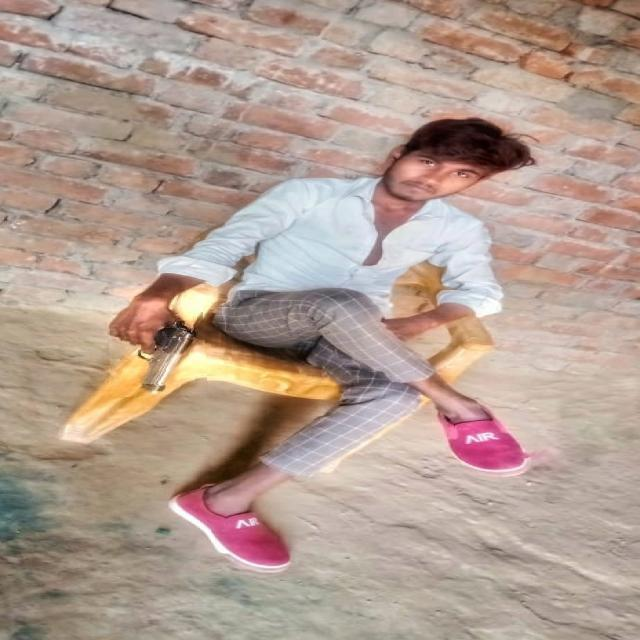Handgun: (109, 314, 208, 397)
